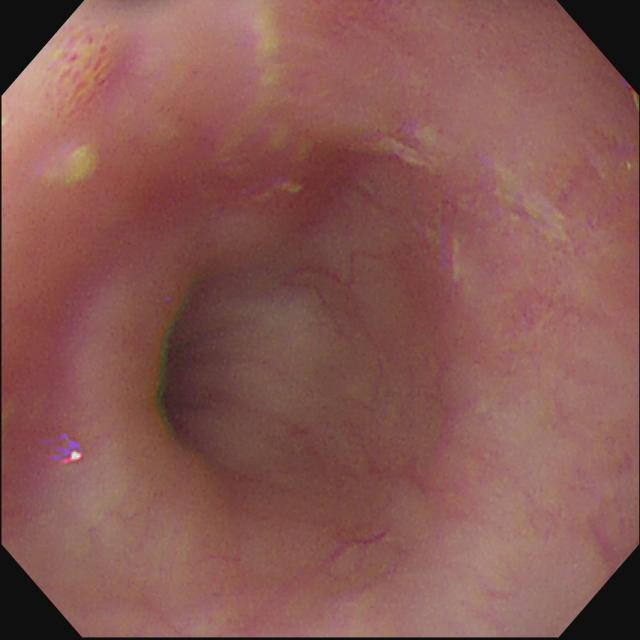A: (41, 21, 132, 119), (294, 131, 365, 233)
E: (145, 277, 214, 461)
J: (374, 129, 440, 178), (55, 142, 105, 193), (277, 179, 305, 199)
U: (49, 436, 85, 465)
